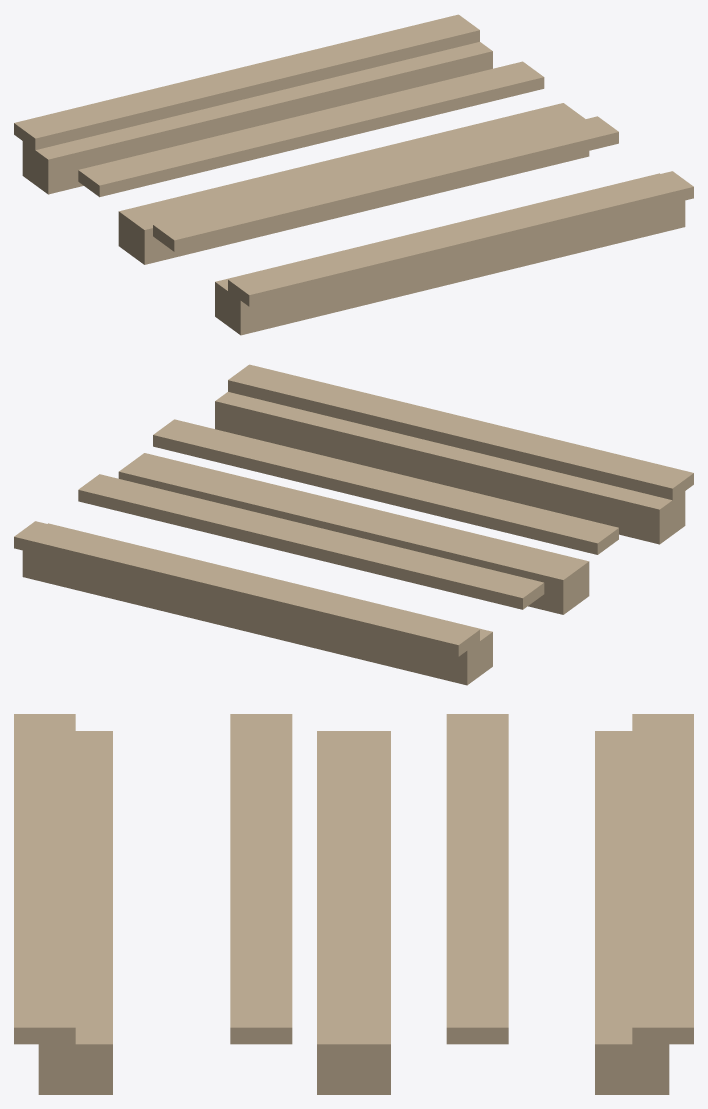
Rendered from pallet.glb.
The picture shows the model from 3 angles, top to bottom: view 1: azimuth 30°, elevation 25°; view 2: azimuth 150°, elevation 25°; view 3: azimuth 270°, elevation 25°; orthographic projection. The views are drawn at different scales.
Visible parts, largest first — view 1: NC_pallet; view 2: NC_pallet; view 3: NC_pallet.
Part boxes in pixels (x1=…): NC_pallet: x1=14, y1=14, x2=693, y2=335; NC_pallet: x1=14, y1=364, x2=693, y2=685; NC_pallet: x1=14, y1=714, x2=693, y2=1094.
Size of the model in its own units: 1.2 by 0.12 by 1.1.
